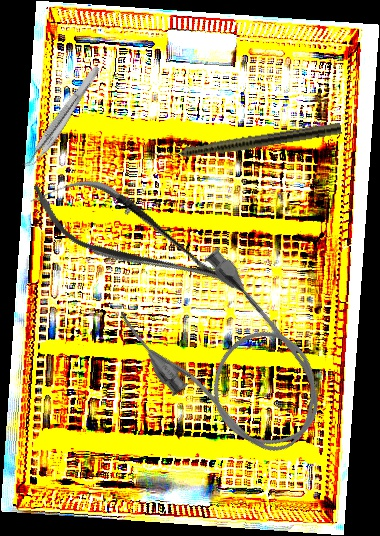Cannula: (109, 235, 349, 484)
Handpiece: (149, 119, 342, 166)
Micro Scissor: (18, 155, 250, 319)
Tissue Forceps: (21, 61, 102, 173)
